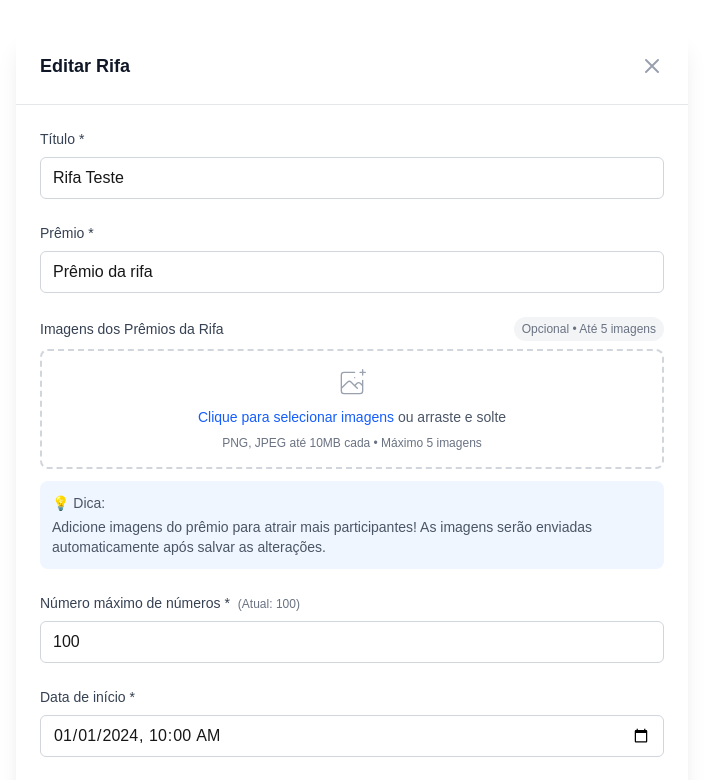
Test: RaffleEditModal - Incremento de Números › deve impedir decremento no submit
Step 1. Replace the text in the number field labelled "Número máximo de números *(Atual: 100)" with "50" → (352, 642), box x1=40 y1=621 x2=664 y2=663
(page scrolled)
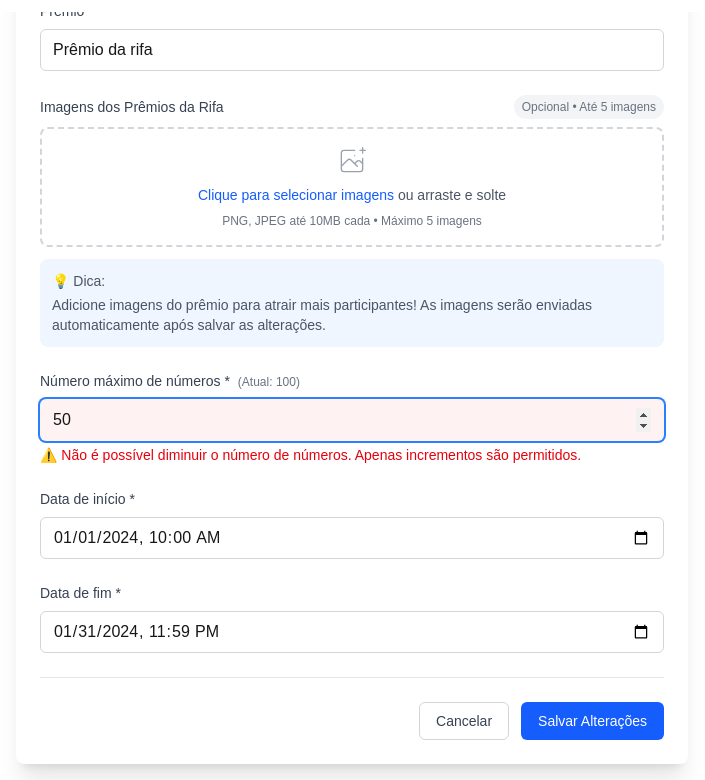
Step 2. Click the button "Salvar Alterações" → (592, 721), box x1=521 y1=702 x2=664 y2=740
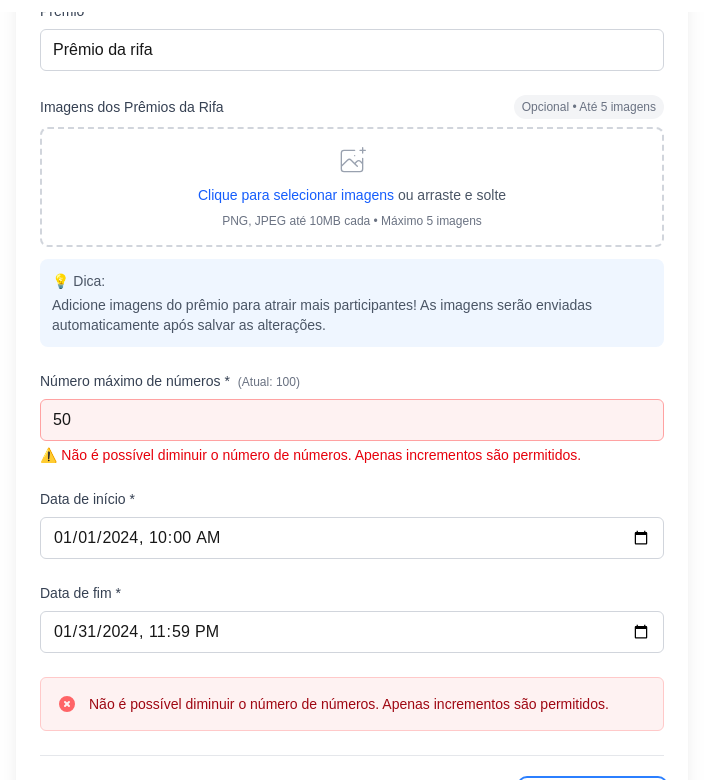
Result: the text "Não é possível diminuir o número de números. Apenas incrementos são permitidos." is shown at x1=89 y1=694 x2=609 y2=714
